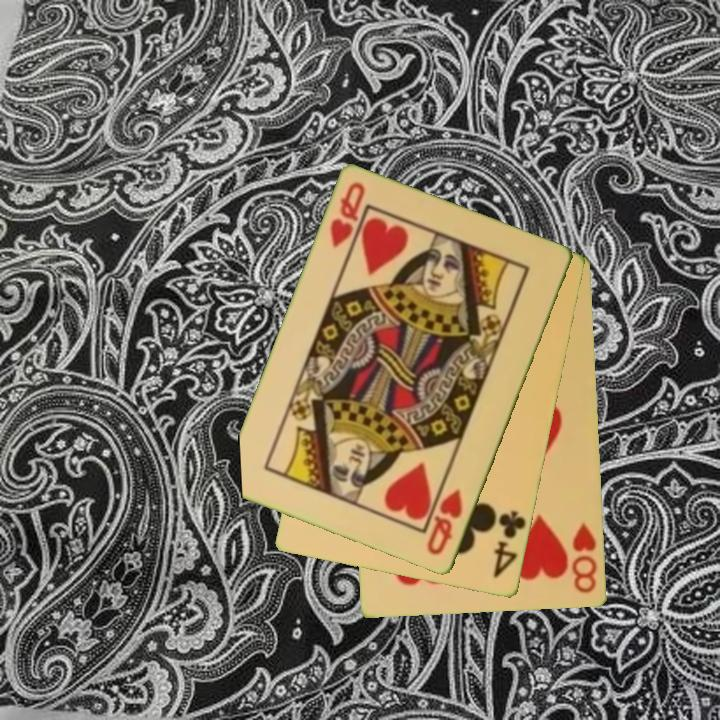4c: (490, 507, 529, 581)
8h: (569, 520, 600, 596)
Qh: (423, 486, 466, 559), (326, 178, 368, 251)
